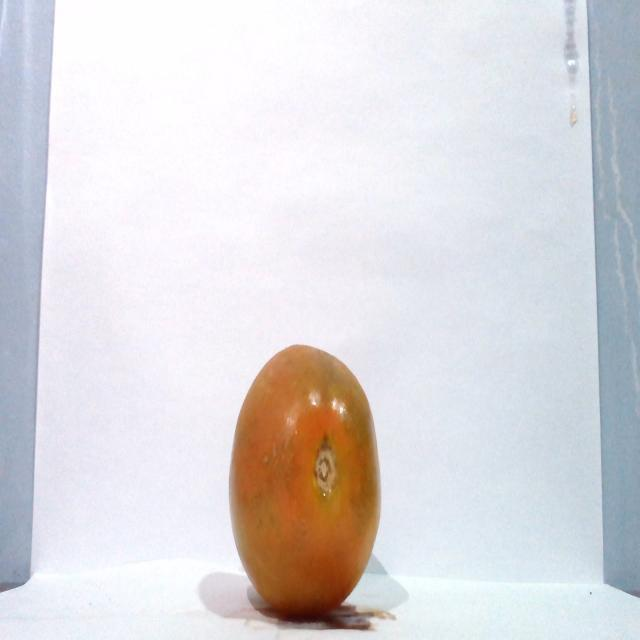Red: (227, 342, 382, 617)
